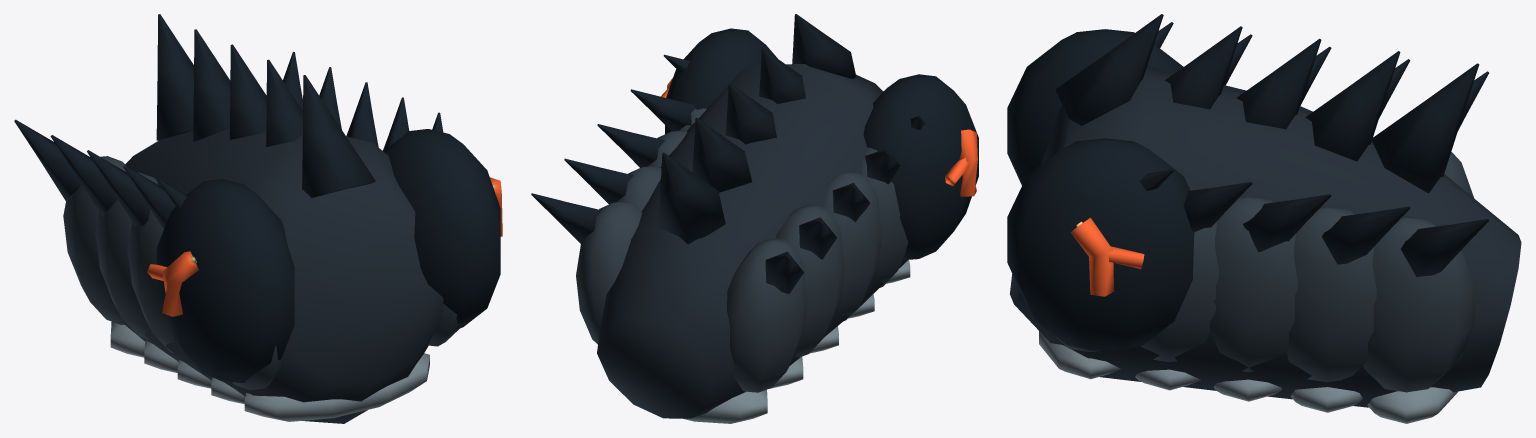
File: Torso.obj
The picture shows the model from 3 angles, left to right: view 1: azimuth 30°, elevation 25°; view 2: azimuth 150°, elevation 25°; view 3: azimuth 270°, elevation 25°; orthographic projection. The views are drawn at different scales.
Parts seen in each view (by area): view 1: Torso; view 2: Torso; view 3: Torso.
Part boxes in pixels (x1=…): Torso: x1=14, y1=14, x2=502, y2=423; Torso: x1=531, y1=14, x2=978, y2=423; Torso: x1=1007, y1=14, x2=1521, y2=423.
Bounding box in the file's own units: 2.96 × 2.96 × 3.58.
